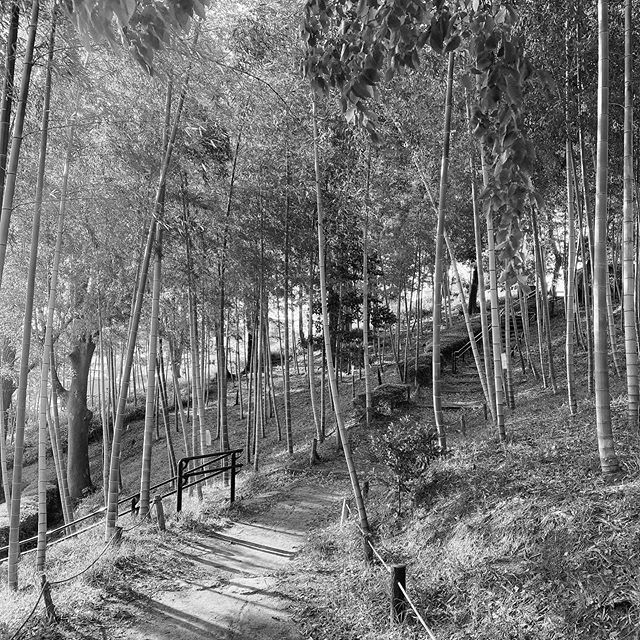vegetation: (15, 1, 640, 508)
